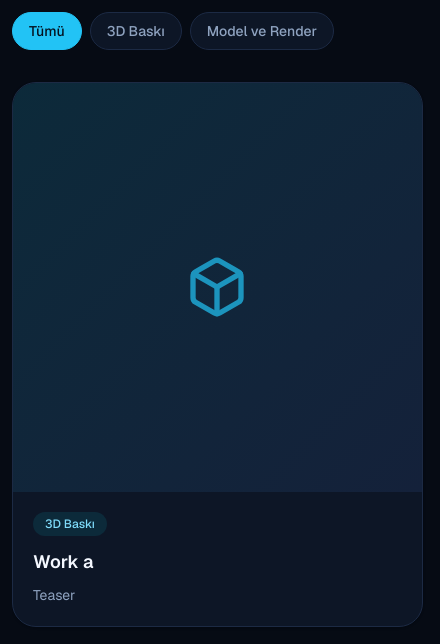
Test case: GalleryGrid › shows a message when a category is empty
Step 1. Click the button "Model ve Render" → [262, 31], box [190,12,334,50]
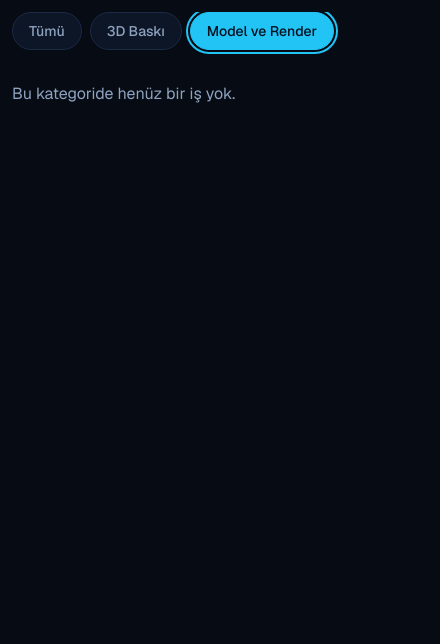
Now the text "Bu kategoride henüz bir iş yok." is shown, box [12,83,235,104]
